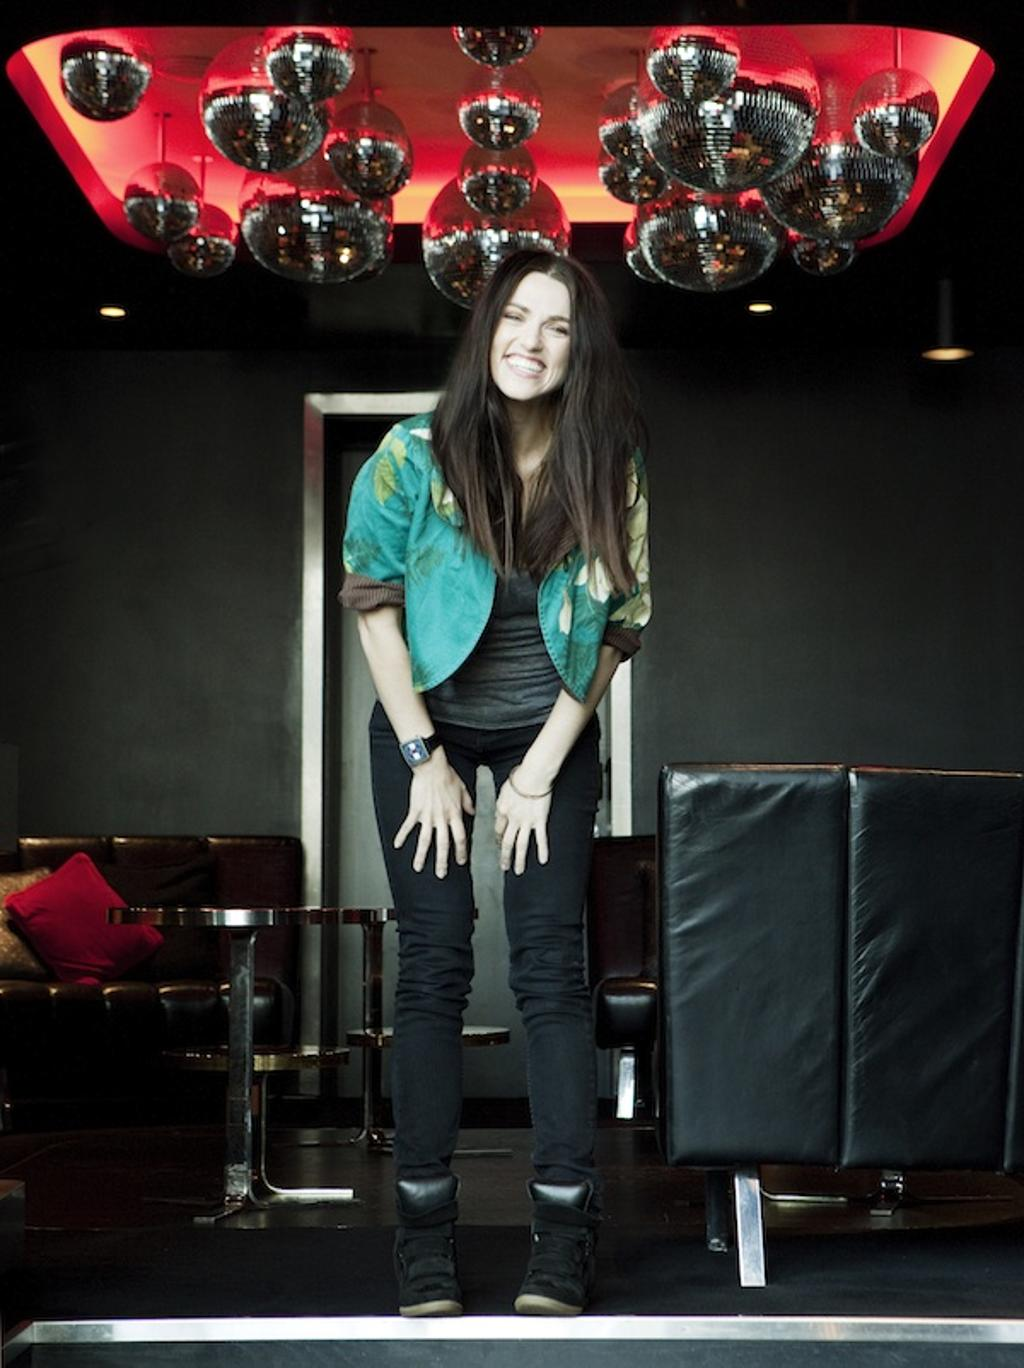face: (493, 283, 568, 398)
